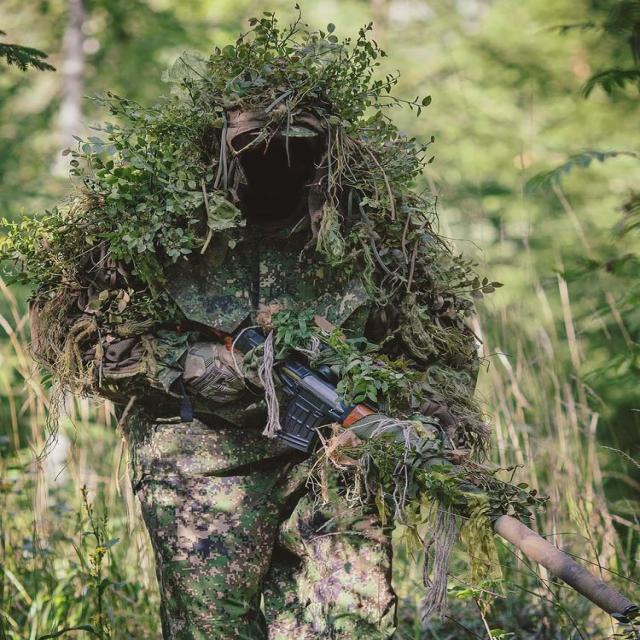Camouflage: (4, 14, 636, 623)
